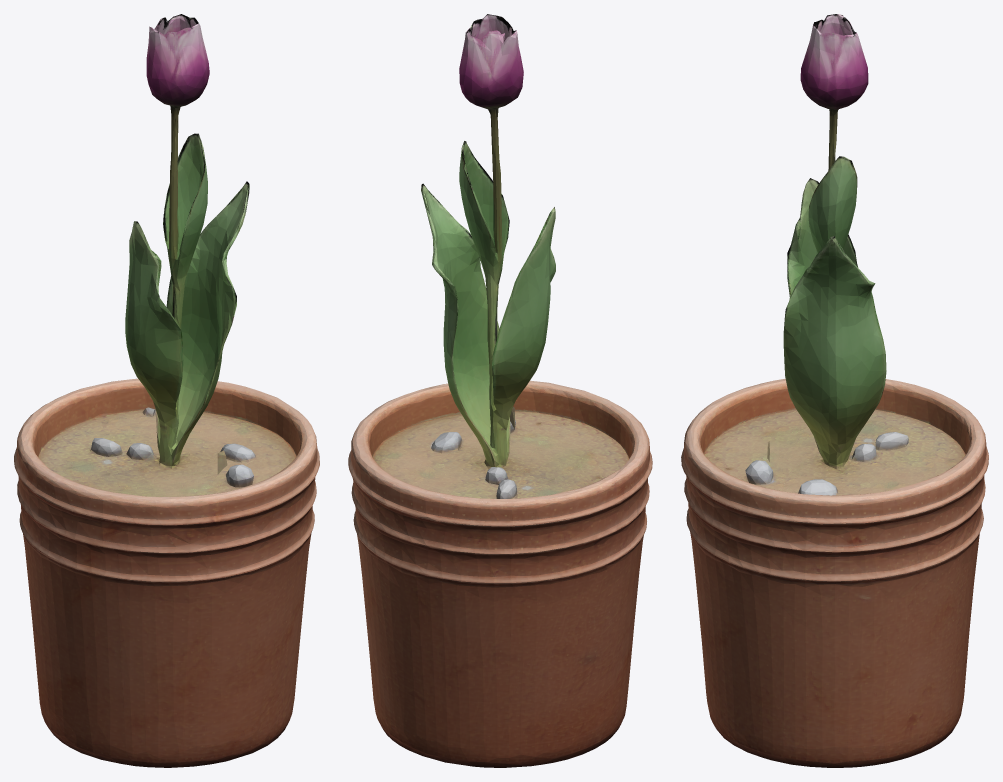
The model's file is PartObjaverseTiny_Five.glb.
3 views of the same model, side by side, from view 1: azimuth 30°, elevation 25°; view 2: azimuth 150°, elevation 25°; view 3: azimuth 270°, elevation 25° (orthographic).
Visible parts, largest first — view 1: world; view 2: world; view 3: world.
Boxes of the visible parts, box(x1,y1,x2,y2) form: world: box(14, 14, 319, 767); world: box(348, 14, 652, 767); world: box(681, 14, 988, 767).
Bounding box in the file's own units: 0.3978 × 0.9999 × 0.3979.
1 material, 1 textured.
